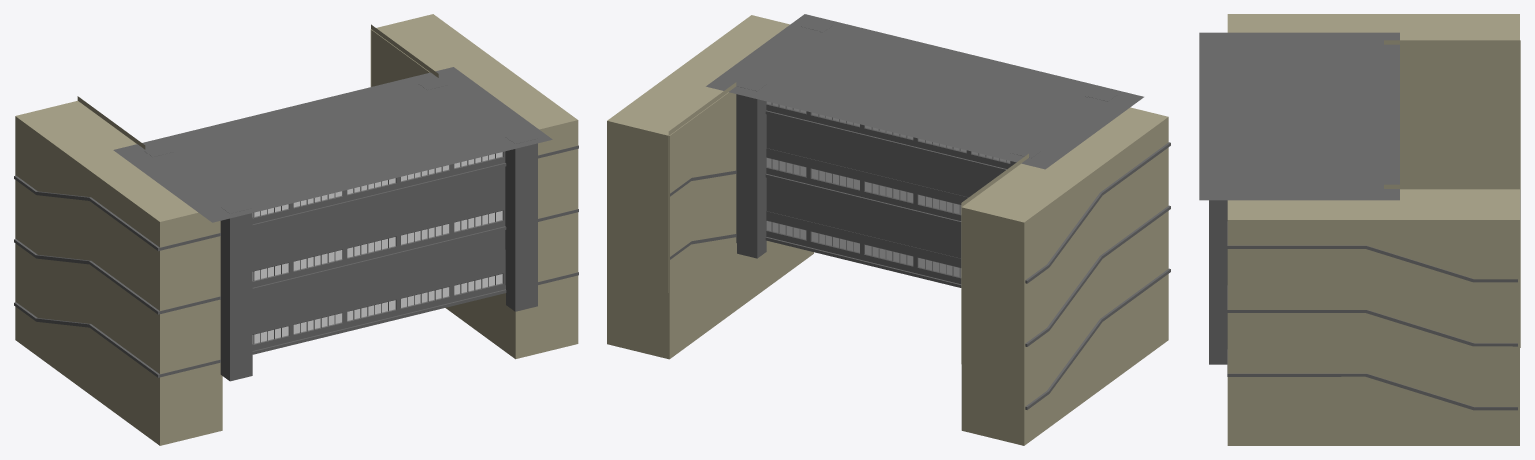
File: Mapa3v2.fbx
3 renders of one model, left to right at view 1: azimuth 30°, elevation 25°; view 2: azimuth 150°, elevation 25°; view 3: azimuth 270°, elevation 25°, orthographic.
Parts seen in each view (by area): view 1: Cube.010, Plane.001, Cube.008, Cube.018, Cube.017, Cube.004, Cube.012, Cube.014, Cube, Plane.008, Plane.004, Plane (+1 smaller); view 2: Cube.010, Plane.001, Cube.008, Cube.018, Cube.004, Cube.017, Cube.009, Cube.019, Cube, Plane, Cube.013, Plane.004 (+1 smaller); view 3: Cube.010, Plane.001, Cube.014, Plane, Plane.008, Plane.004.
Boxes of the visible parts, left/top/right/bottom form: Cube.010: left=15, top=14, right=578, bottom=445; Plane.001: left=113, top=67, right=552, bottom=222; Cube.008: left=252, top=166, right=505, bottom=262; Cube.018: left=252, top=230, right=505, bottom=325; Cube.017: left=252, top=264, right=505, bottom=350; Cube.004: left=252, top=201, right=505, bottom=287; Cube.012: left=220, top=201, right=252, bottom=381; Cube.014: left=505, top=132, right=537, bottom=311; Cube: left=252, top=151, right=505, bottom=224; Plane.008: left=14, top=272, right=578, bottom=377; Plane.004: left=14, top=209, right=578, bottom=314; Plane: left=14, top=145, right=578, bottom=251; Cube.010: left=607, top=15, right=1168, bottom=445; Plane.001: left=706, top=14, right=1143, bottom=169; Cube.008: left=766, top=114, right=1002, bottom=197; Cube.018: left=766, top=178, right=961, bottom=258; Cube.004: left=766, top=148, right=968, bottom=220; Cube.017: left=766, top=211, right=961, bottom=284; Cube.009: left=766, top=114, right=1001, bottom=196; Cube.019: left=736, top=94, right=766, bottom=258; Cube: left=766, top=101, right=1010, bottom=169; Plane: left=670, top=110, right=1170, bottom=283; Cube.013: left=736, top=79, right=766, bottom=187; Plane.004: left=670, top=174, right=1170, bottom=346; Cube.010: left=1227, top=14, right=1520, bottom=445; Plane.001: left=1199, top=32, right=1399, bottom=200; Cube.014: left=1209, top=184, right=1228, bottom=364; Plane: left=1227, top=221, right=1517, bottom=282; Plane.008: left=1227, top=349, right=1517, bottom=410; Plane.004: left=1227, top=285, right=1517, bottom=346.
Bounding box in the file's own units: 25078 × 13018 × 16449.
